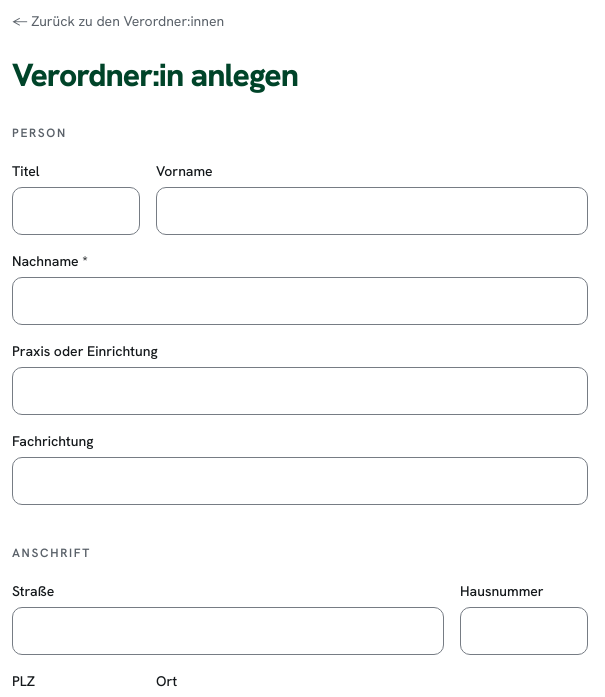
Test: NewPrescriberPage › erklaert einen Doppeleintrag am Nachnamen, statt nur zu scheitern
In the field labelled "Nachname *": (300, 301) x1=12 y1=277 x2=588 y2=325, type "Probst"
(page scrolled)
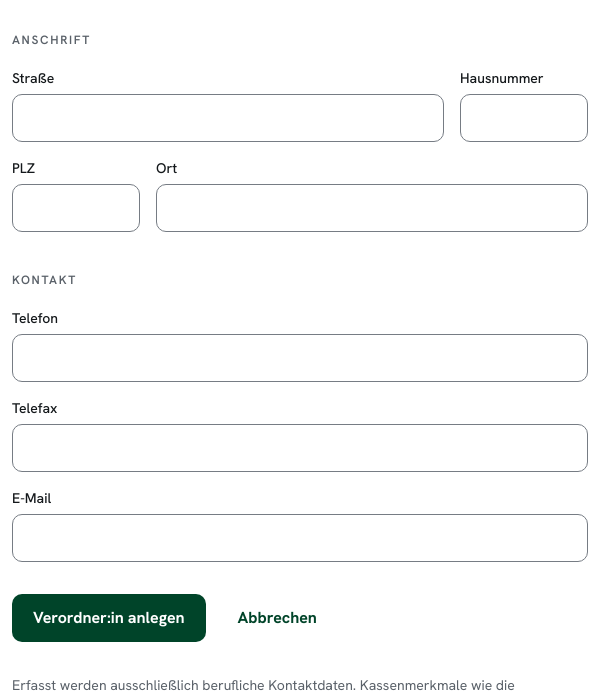
Click the button "Verordner:in anlegen": (109, 618) x1=12 y1=594 x2=206 y2=642
(page scrolled)
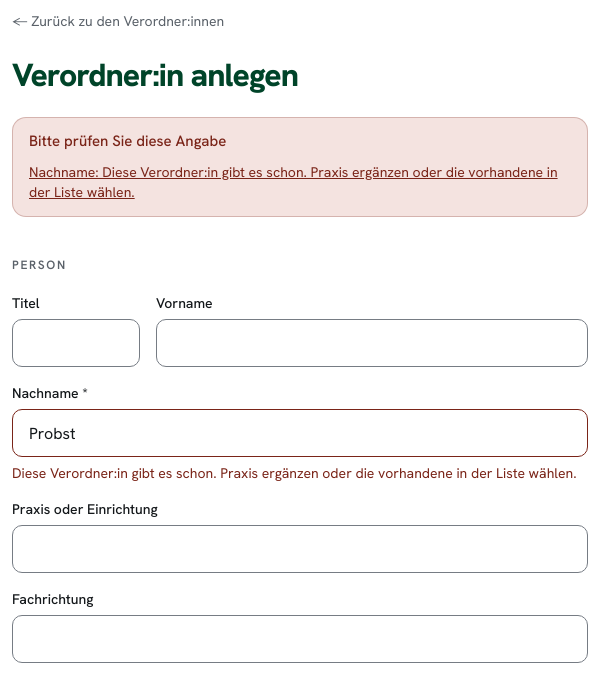
Check: the text "Diese Verordner:in gibt es schon. Praxis ergänzen oder die vorhandene in der Liste wählen." is shown, box x1=12 y1=464 x2=577 y2=482
